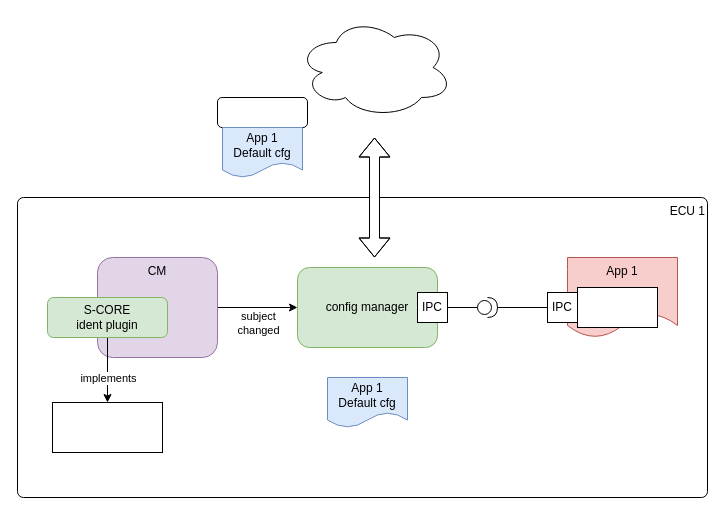
This 725x515 diagram has some shape labels left out. The shapes that lost their labels are listed below. From the top down, each one's centre as x and y in pixels, then its label:
the point at 374,67: Cloud
the point at 262,112: subject
the point at 617,307: config provider lib
the point at 107,427: «interface» Control
